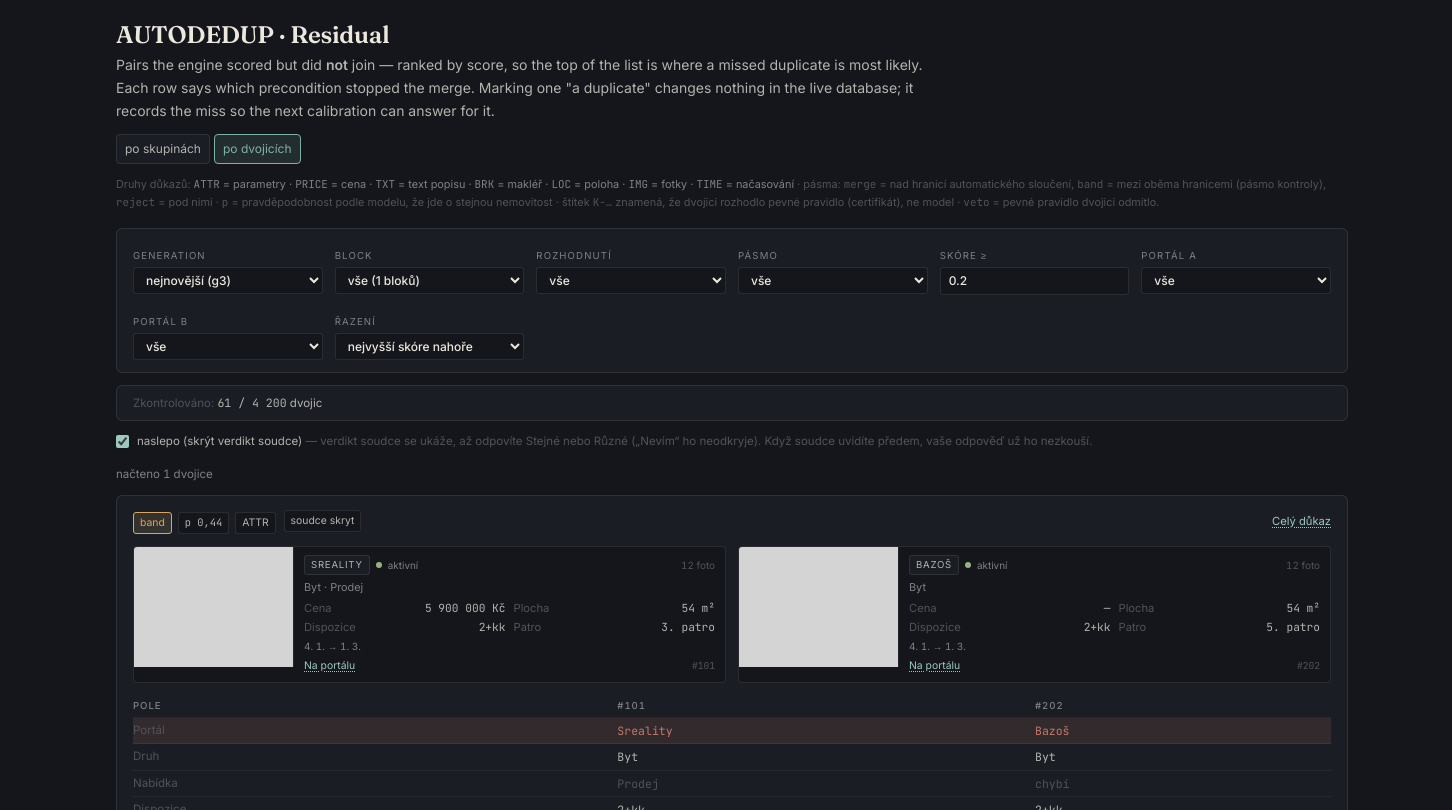
Scenario: <AutodedupResidual> › turns the judge back on with the toggle, and says so in the URL
This screenshot has width=1452, height=810.
Click the checkbox labelled "naslepo" at (122, 442), box [116,435,129,448]
(page scrolled)
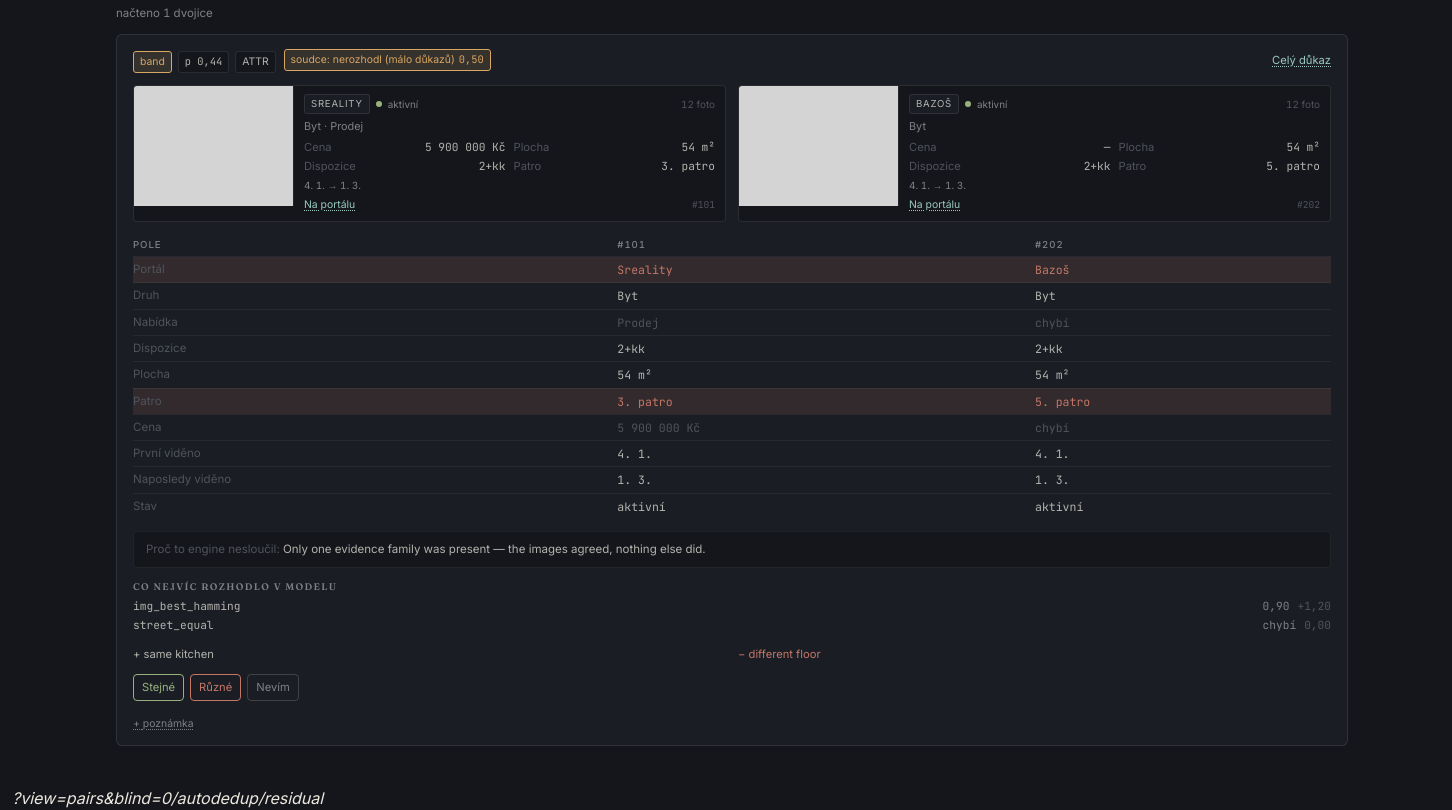
Check: the text "soudce: nerozhodl (málo důkazů) 0,50" is shown, box [284,49,491,71]
Check: the text with test id "search" shows "blind=0", box [12,788,171,808]
